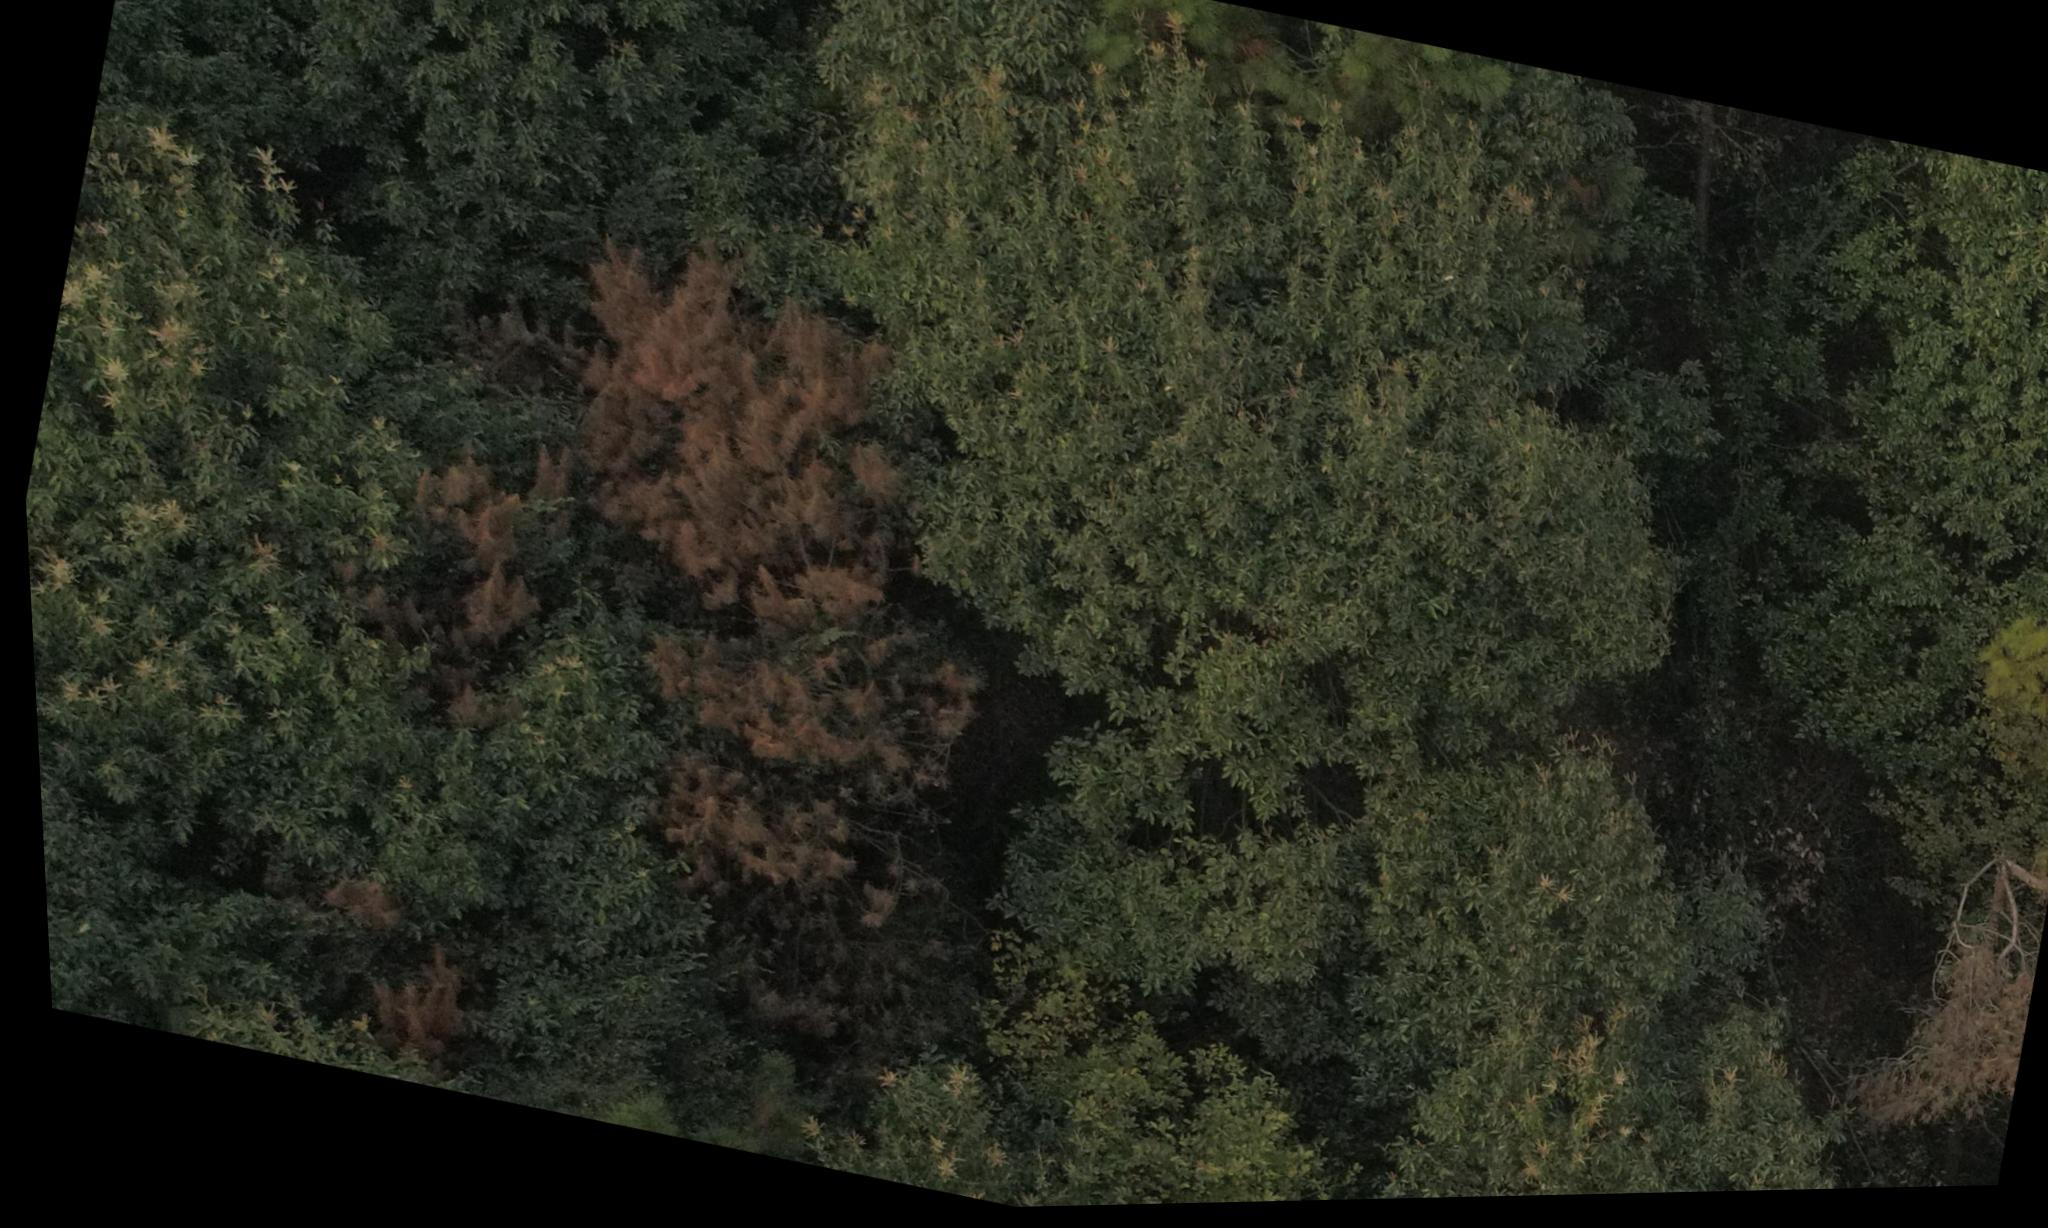heavy: (424, 246, 1069, 930)
